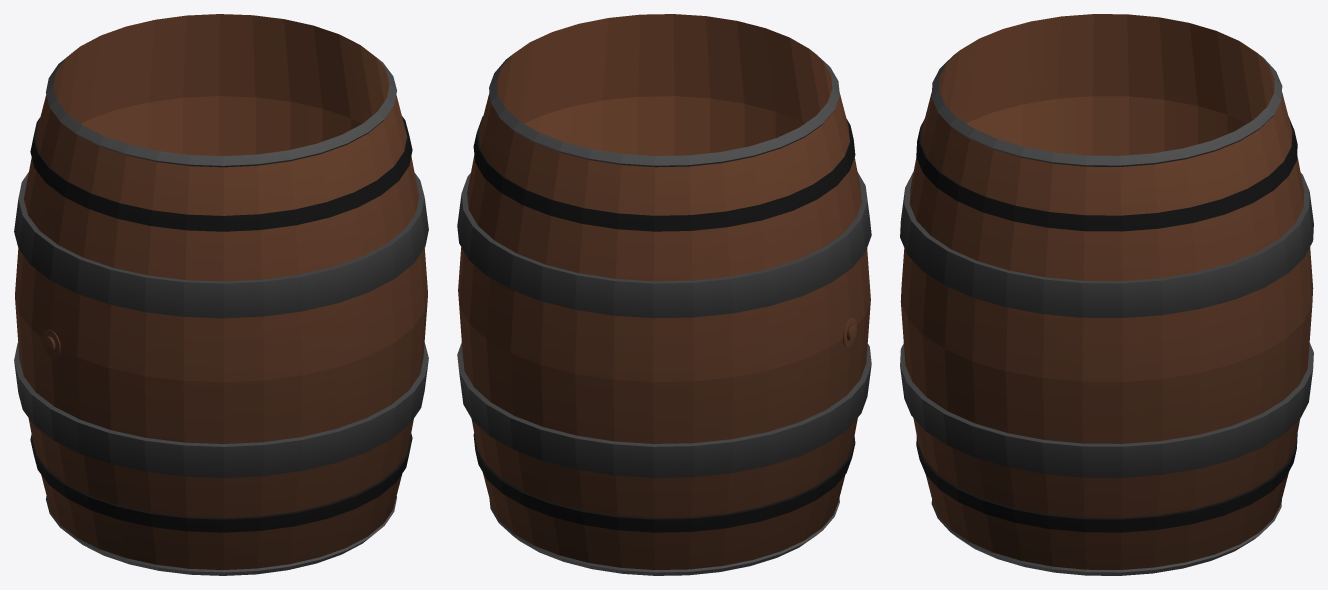
Rendered from Small Dark Open Barrel.fbx.
3 renders of one model, left to right at view 1: azimuth 30°, elevation 25°; view 2: azimuth 150°, elevation 25°; view 3: azimuth 270°, elevation 25°, orthographic.
Visible parts, largest first — view 1: Small Dark Open Barrel; view 2: Small Dark Open Barrel; view 3: Small Dark Open Barrel.
Boxes of the visible parts, left/top/right/bottom form: Small Dark Open Barrel: left=14, top=14, right=428, bottom=575; Small Dark Open Barrel: left=457, top=14, right=871, bottom=575; Small Dark Open Barrel: left=900, top=14, right=1313, bottom=575.
Bounding box in the file's own units: 254 × 227 × 228.
Materials: 1 (1 with a texture image).
